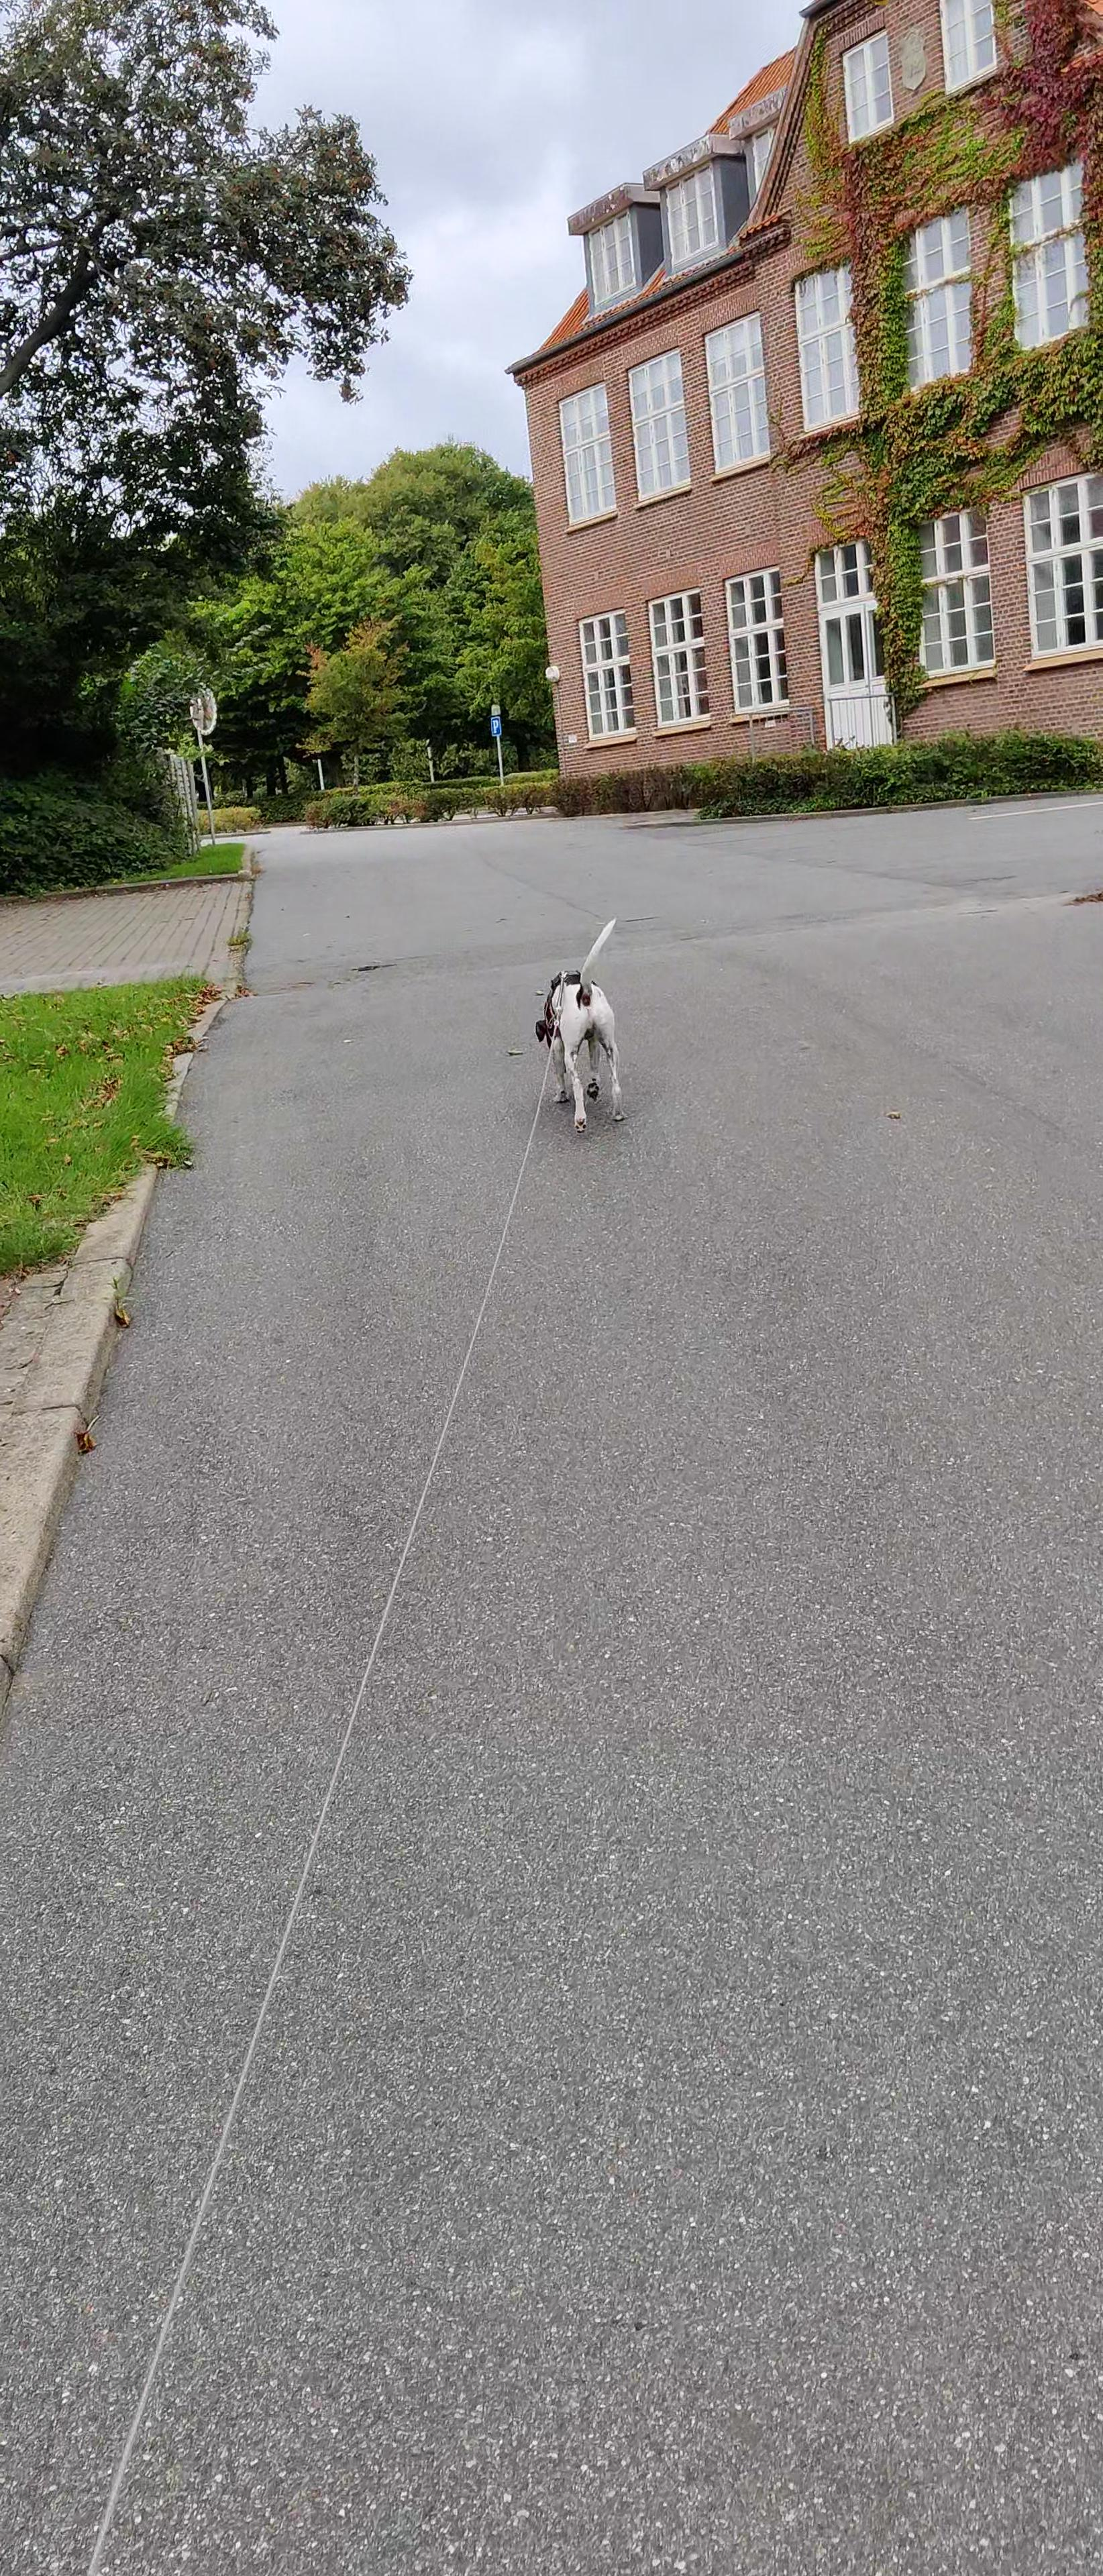Dog: (533, 915, 641, 1138)
